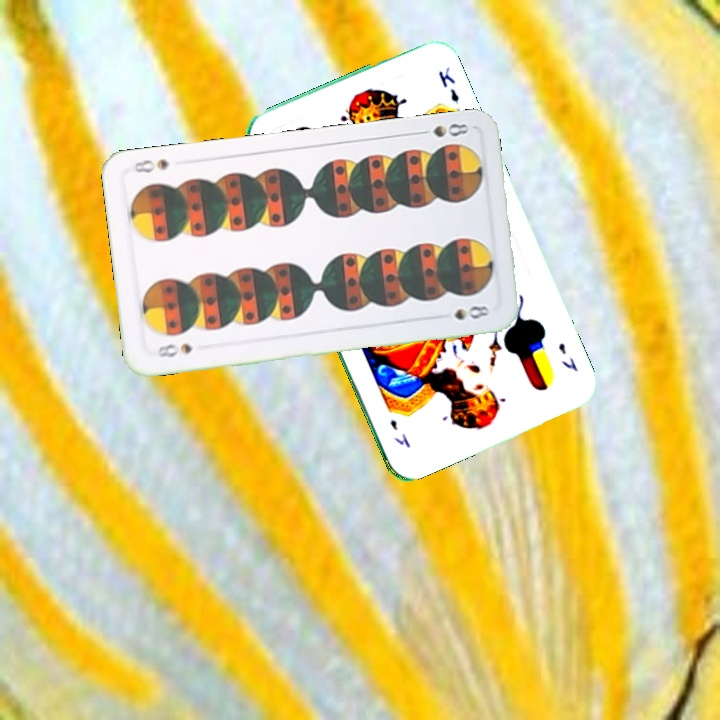EK: (554, 338, 580, 375)
S8: (413, 119, 472, 140), (150, 339, 194, 360)
